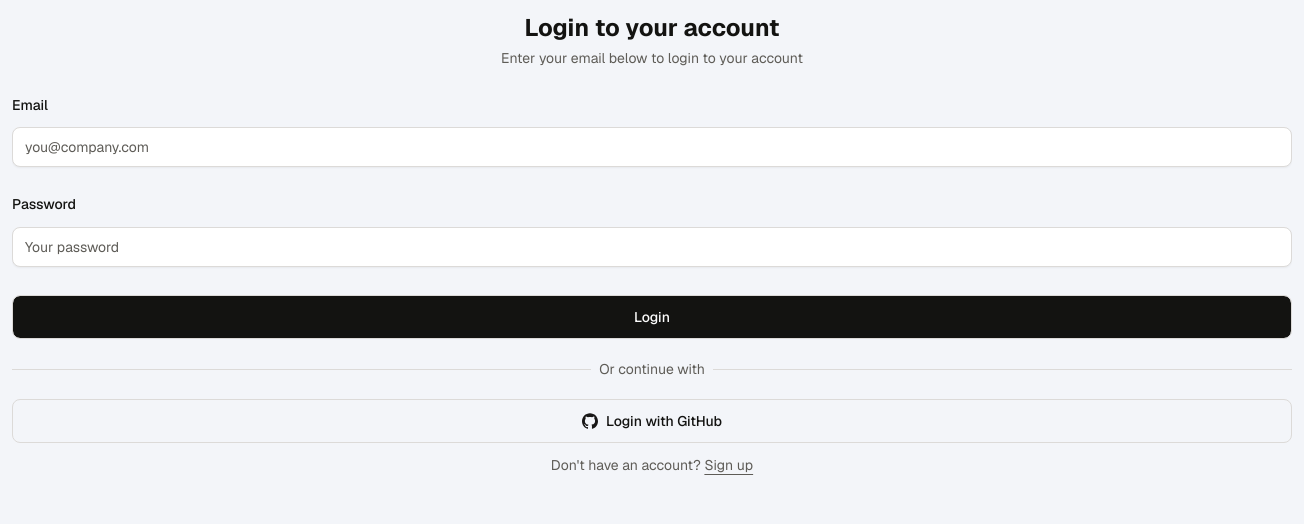
Test: LoginForm › reports an invalid email through an alert without navigating
The width and height of the screenshot is (1304, 524).
Type "not-an-email" into the field labelled "Email".
click(652, 147); type("not-an-email")  # box x1=12 y1=127 x2=1292 y2=167
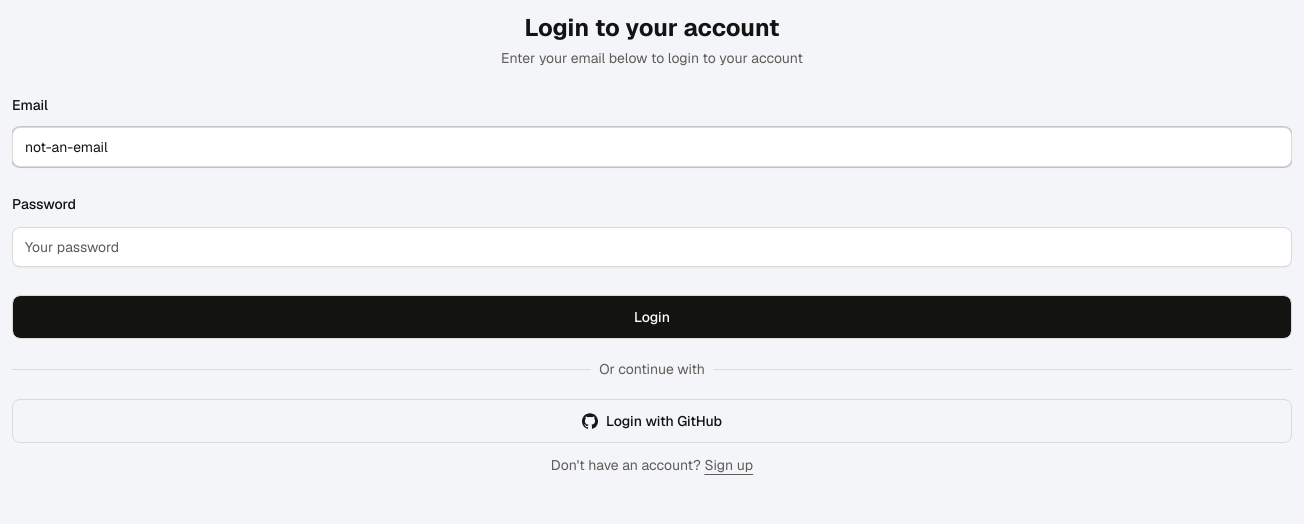
Type "longenoughpassword" into the password field labelled "Password".
click(652, 246); type("longenoughpassword")  # box x1=12 y1=226 x2=1292 y2=266
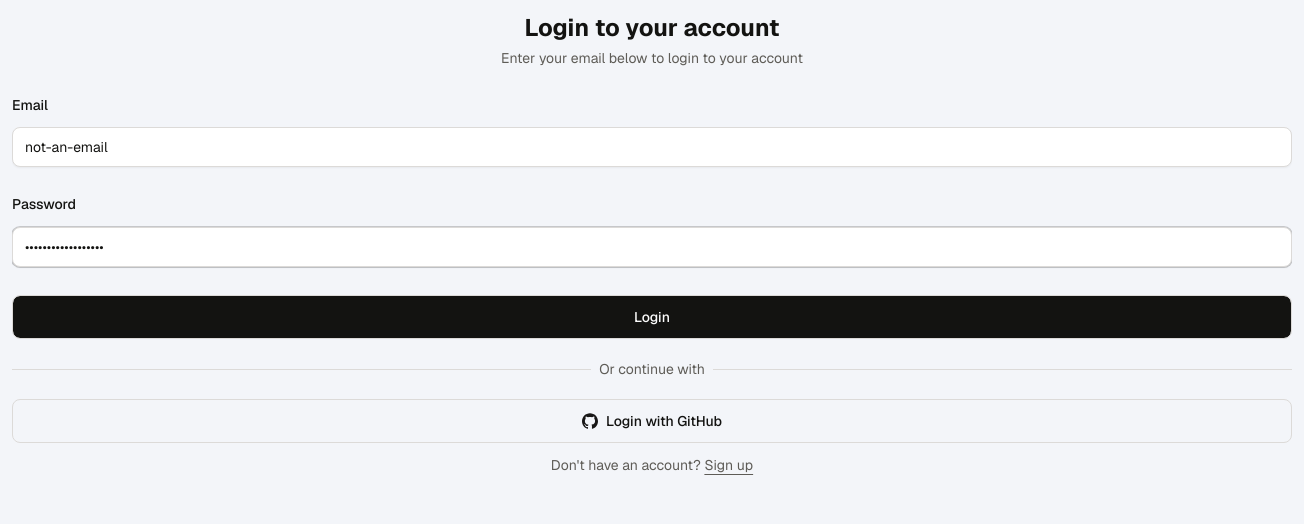
Click the button "Login".
click(652, 316)  # box x1=12 y1=294 x2=1292 y2=338
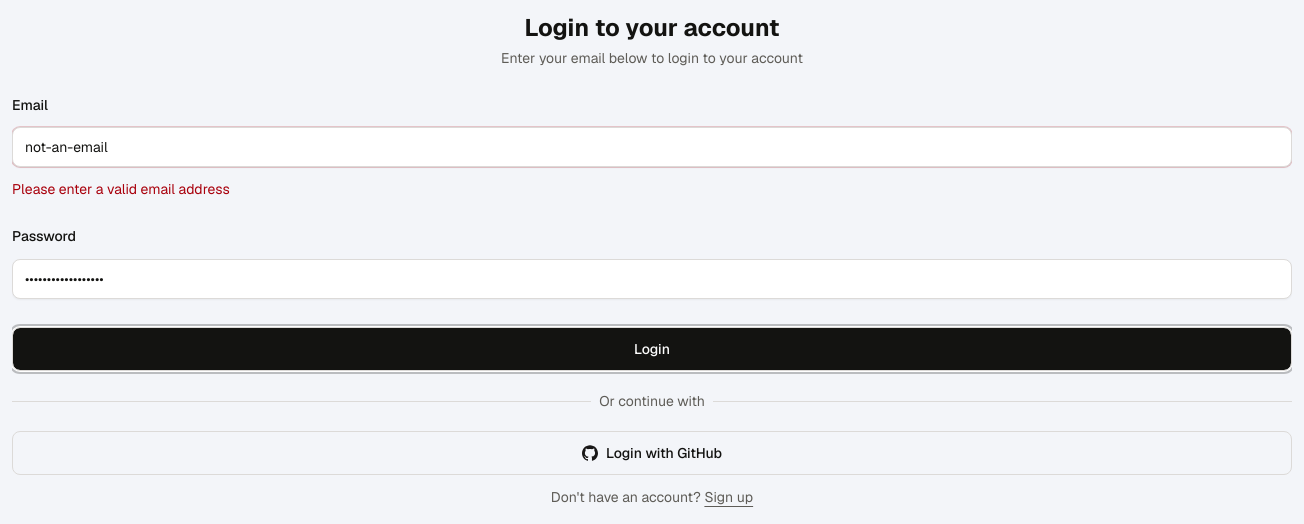
Expected: the message reads "Please enter a valid email address", x1=12 y1=180 x2=230 y2=198
